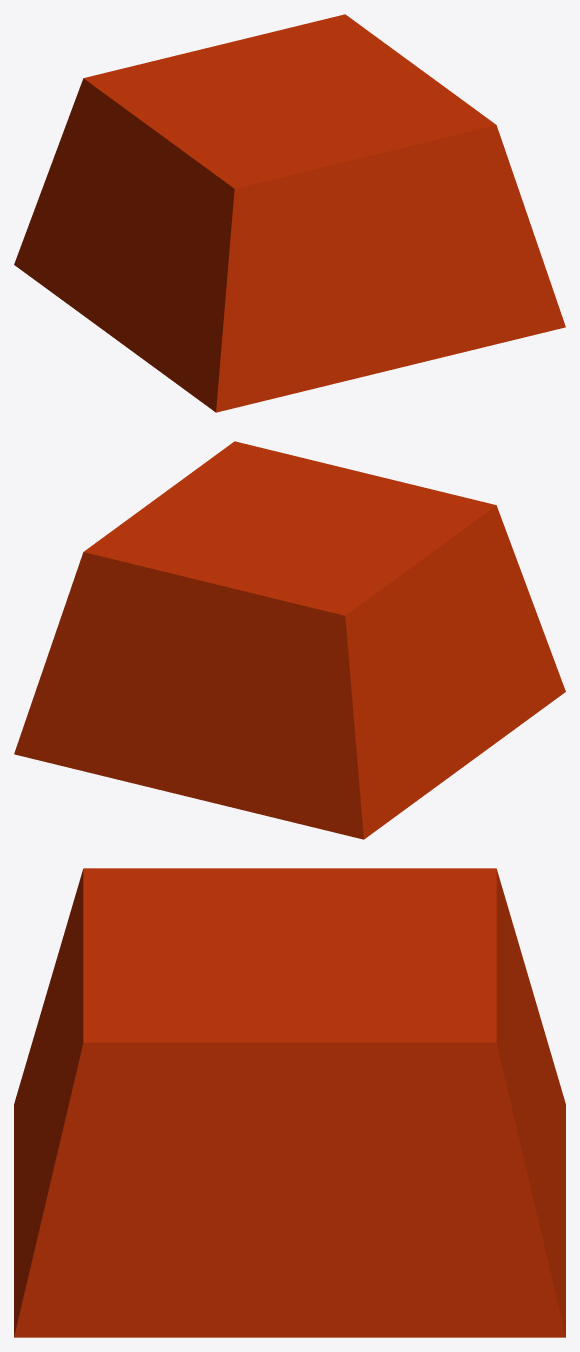
The model's file is 1x1_Red_low poly.fbx.
3 renders of one model, top to bottom at view 1: azimuth 30°, elevation 25°; view 2: azimuth 150°, elevation 25°; view 3: azimuth 270°, elevation 25°, orthographic. The views are drawn at different scales.
Visible parts, largest first — view 1: Cube.012; view 2: Cube.012; view 3: Cube.012.
Boxes of the visible parts, x1,y1,x2,y2 form: Cube.012: [14, 14, 565, 412]; Cube.012: [14, 441, 565, 839]; Cube.012: [14, 868, 565, 1337].
Size of the model in its own units: 13.62 by 7.23 by 13.62.
